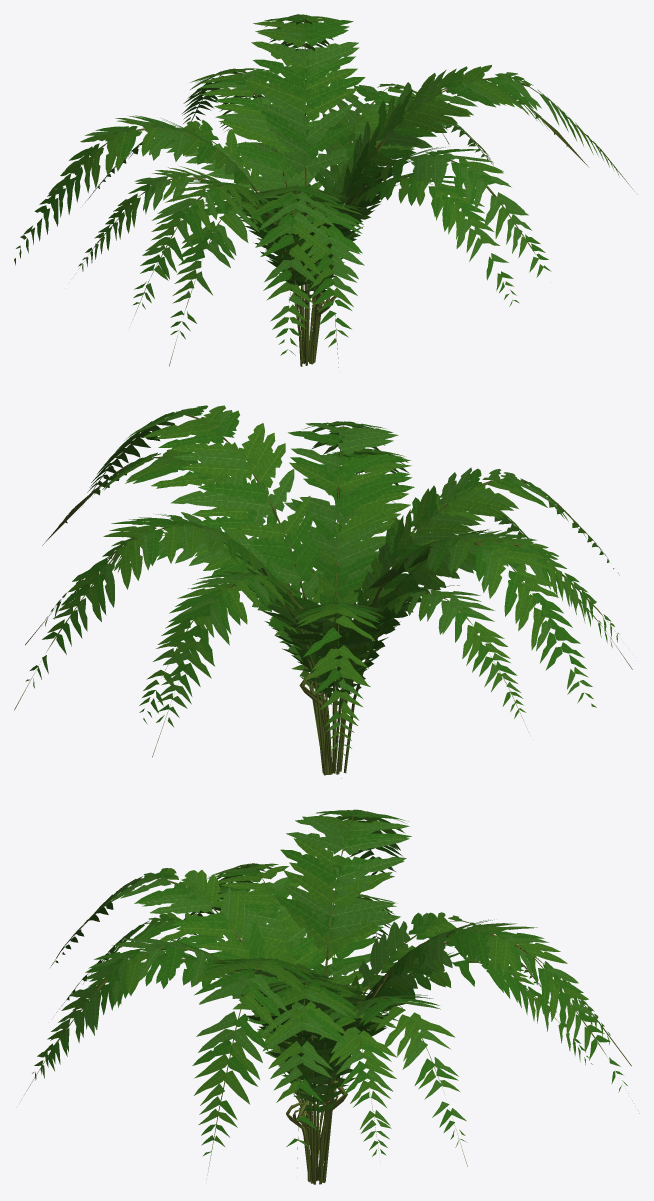
File: fern_clump.glb
3 renders of one model, top to bottom at view 1: azimuth 30°, elevation 25°; view 2: azimuth 150°, elevation 25°; view 3: azimuth 270°, elevation 25°, orthographic. The views are drawn at different scales.
Visible parts, largest first — view 1: fern_clump_fern_a, fern_clump_fern_c, fern_clump_fern_b, fern_clump_stem; view 2: fern_clump_fern_c, fern_clump_fern_b, fern_clump_fern_a, fern_clump_stem; view 3: fern_clump_fern_c, fern_clump_fern_a, fern_clump_fern_b, fern_clump_stem, fern_clump_crozier.
Part boxes in pixels (left/top/right/bottom): fern_clump_fern_a: left=20, top=15, right=603, bottom=344; fern_clump_fern_c: left=14, top=14, right=614, bottom=355; fern_clump_fern_b: left=34, top=17, right=618, bottom=337; fern_clump_stem: left=80, top=20, right=637, bottom=367; fern_clump_fern_c: left=45, top=405, right=619, bottom=750; fern_clump_fern_b: left=30, top=405, right=618, bottom=727; fern_clump_fern_a: left=25, top=408, right=611, bottom=758; fern_clump_stem: left=14, top=413, right=632, bottom=778; fern_clump_fern_c: left=34, top=809, right=610, bottom=1156; fern_clump_fern_a: left=37, top=809, right=621, bottom=1155; fern_clump_fern_b: left=32, top=811, right=627, bottom=1155; fern_clump_stem: left=20, top=813, right=639, bottom=1184; fern_clump_crozier: left=286, top=1080, right=347, bottom=1183.
Size of the model in its own units: 1.97 by 0.9189 by 1.78.
Materials: 5 (3 with a texture image).
